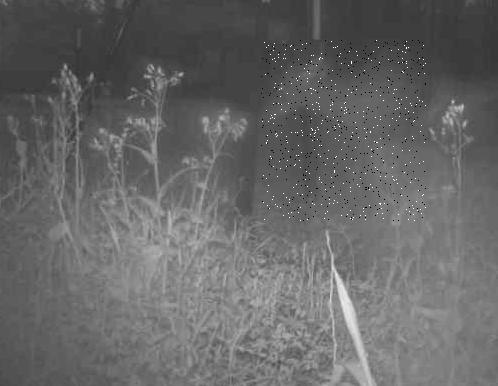Deer: (261, 41, 426, 222)
